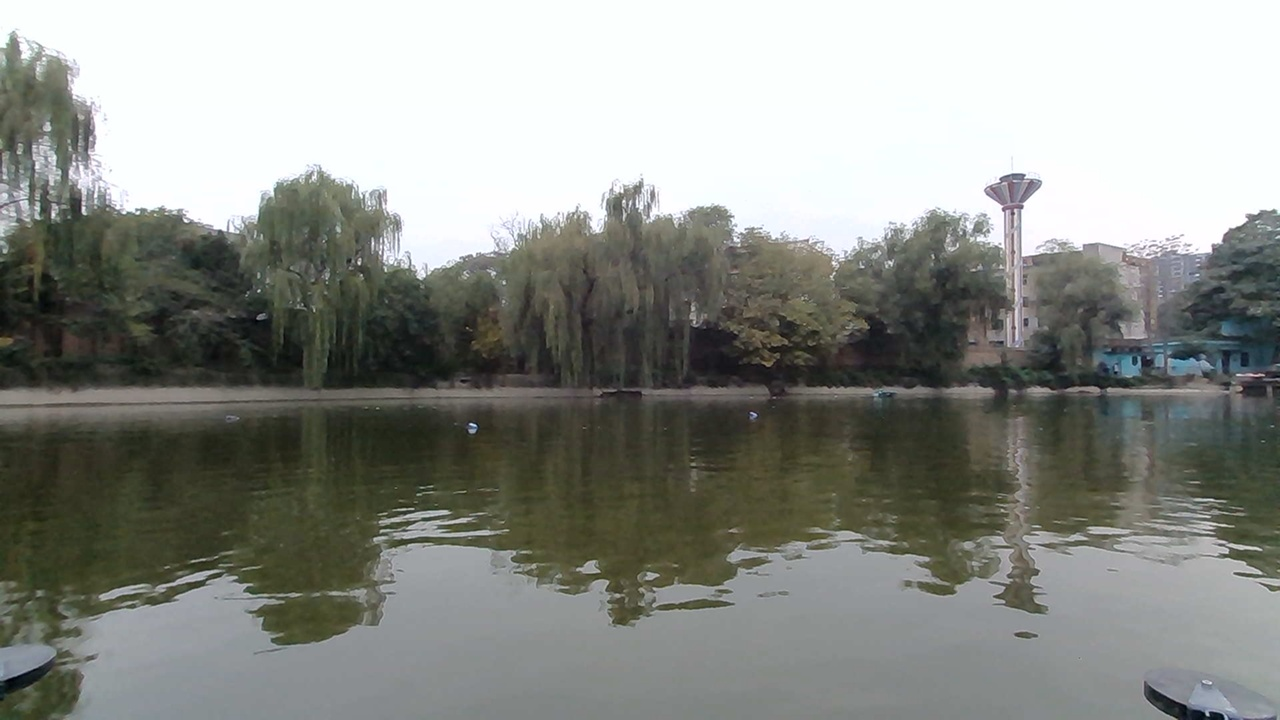bottle: (210, 399, 246, 430), (450, 409, 489, 437), (733, 402, 764, 423)
